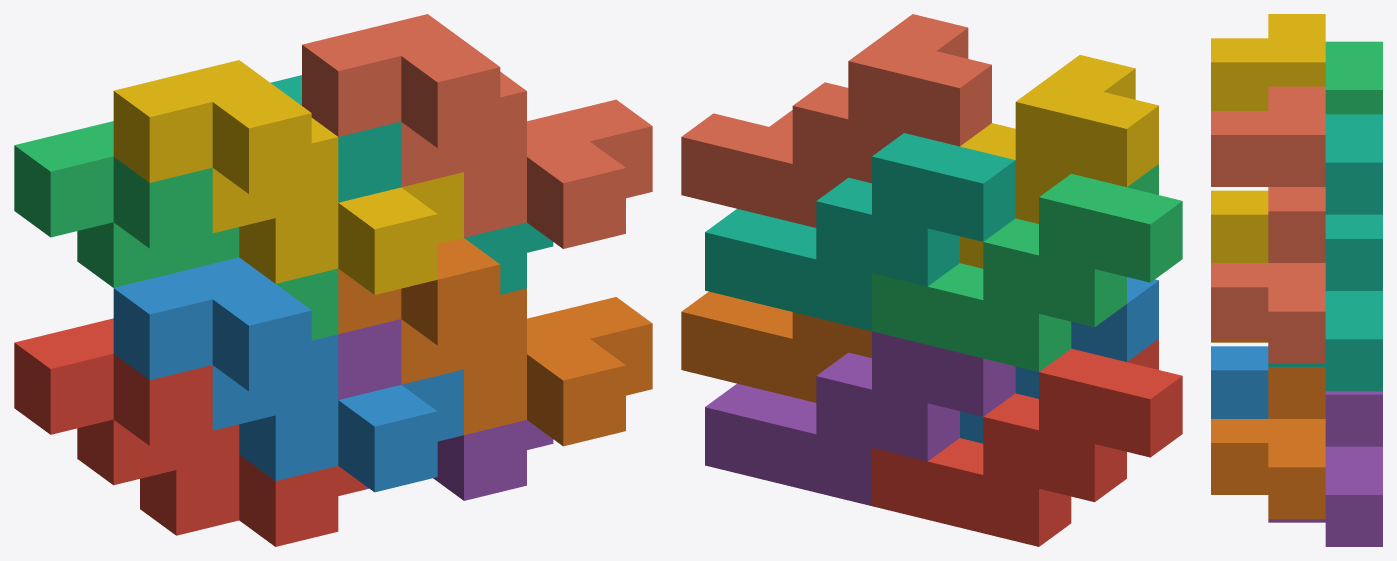
The model's file is tiling.obj.
3 renders of one model, left to right at view 1: azimuth 30°, elevation 25°; view 2: azimuth 150°, elevation 25°; view 3: azimuth 270°, elevation 25°, orthographic. The views are drawn at different scales.
Visible parts, largest first — view 1: copy_1_domain_8, copy_1_domain_4, copy_1_domain_2, copy_1_domain_1, copy_1_domain_6, copy_1_domain_3, copy_1_domain_5, copy_1_domain_7; view 2: copy_1_domain_1, copy_1_domain_3, copy_1_domain_7, copy_1_domain_8, copy_1_domain_5, copy_1_domain_4, copy_1_domain_6, copy_1_domain_2; view 3: copy_1_domain_8, copy_1_domain_7, copy_1_domain_6, copy_1_domain_4, copy_1_domain_5, copy_1_domain_3, copy_1_domain_2.
Boxes of the visible parts, x1,y1,x2,y2 form: copy_1_domain_8: [302, 14, 652, 248]; copy_1_domain_4: [113, 60, 463, 294]; copy_1_domain_2: [113, 257, 463, 492]; copy_1_domain_1: [14, 318, 364, 546]; copy_1_domain_6: [338, 238, 652, 446]; copy_1_domain_3: [14, 121, 338, 340]; copy_1_domain_5: [338, 319, 553, 500]; copy_1_domain_7: [270, 75, 553, 294]; copy_1_domain_1: [872, 339, 1182, 546]; copy_1_domain_3: [872, 164, 1182, 371]; copy_1_domain_7: [705, 133, 1015, 331]; copy_1_domain_8: [681, 14, 991, 227]; copy_1_domain_5: [705, 331, 1015, 505]; copy_1_domain_4: [960, 55, 1158, 268]; copy_1_domain_6: [681, 291, 871, 402]; copy_1_domain_2: [960, 277, 1158, 443]; copy_1_domain_8: [1211, 86, 1325, 363]; copy_1_domain_7: [1268, 114, 1382, 391]; copy_1_domain_6: [1211, 339, 1325, 519]; copy_1_domain_4: [1211, 14, 1325, 262]; copy_1_domain_5: [1268, 391, 1382, 546]; copy_1_domain_3: [1325, 41, 1382, 114]; copy_1_domain_2: [1211, 346, 1268, 418].
Bounding box in the file's own units: 9 × 7 × 3.
